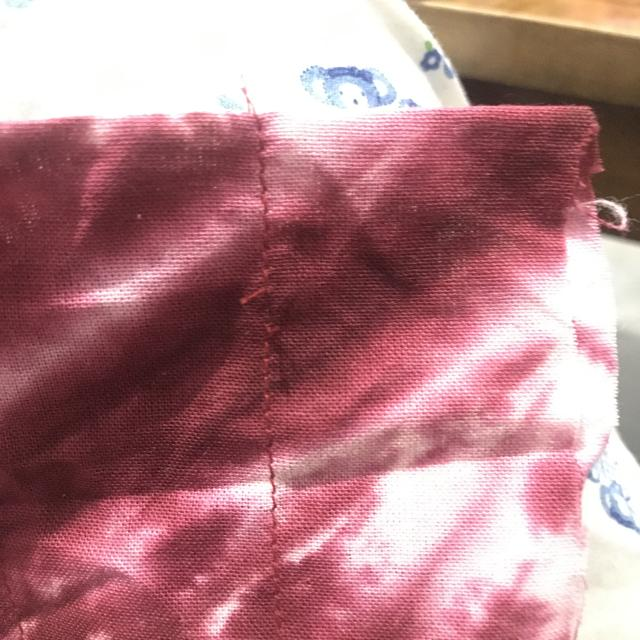broken: (230, 271, 291, 341)
good: (253, 406, 294, 516)
